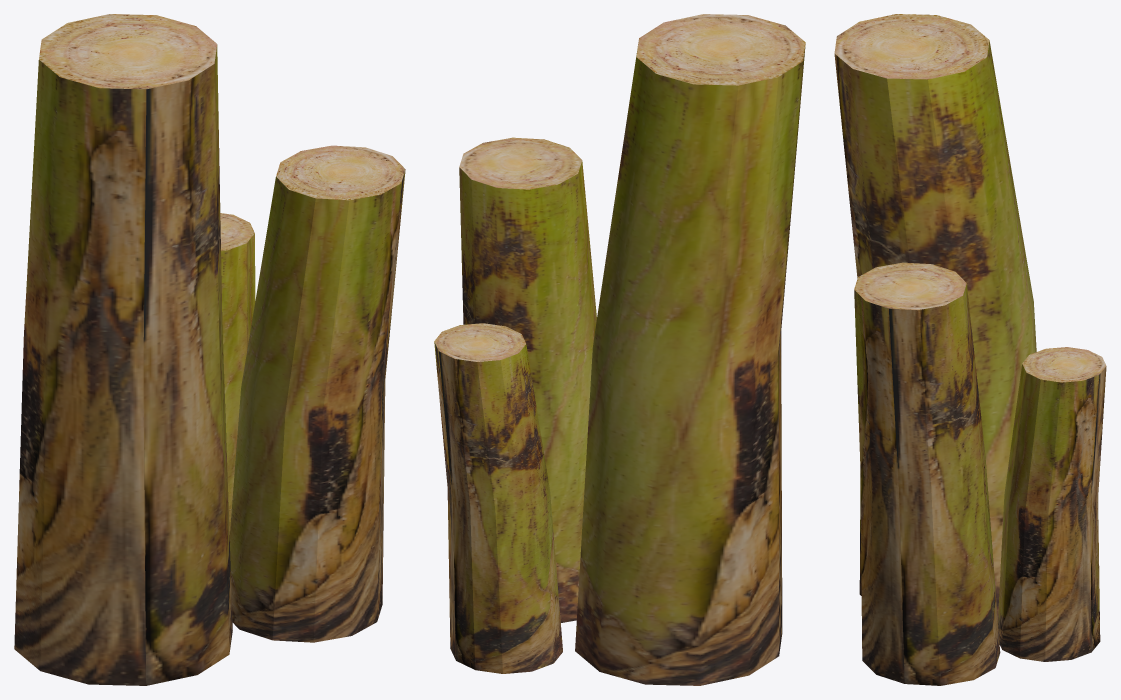
The model's file is BananaTrunk3.fbx.
The picture shows the model from 3 angles, left to right: view 1: azimuth 30°, elevation 25°; view 2: azimuth 150°, elevation 25°; view 3: azimuth 270°, elevation 25°; orthographic projection. The views are drawn at different scales.
Parts seen in each view (by area): view 1: BananaTrunk 3; view 2: BananaTrunk 3; view 3: BananaTrunk 3.
Boxes of the visible parts, left/top/right/bottom form: BananaTrunk 3: left=14, top=14, right=405, bottom=685; BananaTrunk 3: left=434, top=14, right=805, bottom=685; BananaTrunk 3: left=834, top=14, right=1106, bottom=685.
Bounding box in the file's own units: 53.19 × 89.96 × 41.76.
1 material, 1 textured.
